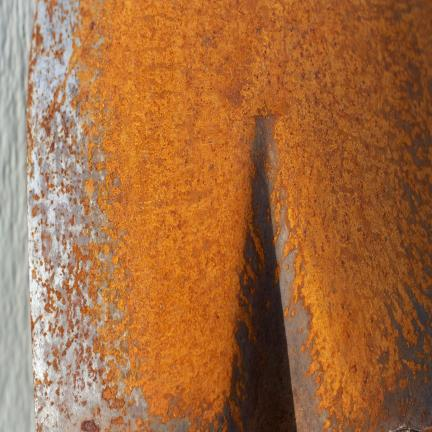karat: (287, 120, 432, 386), (105, 124, 237, 399), (81, 18, 428, 108)
